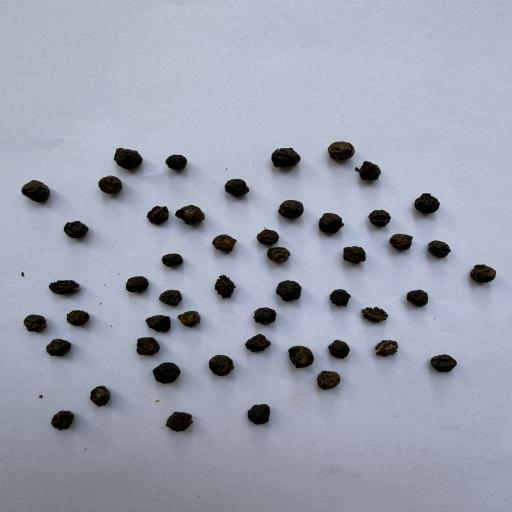Black_pepper: (397, 183, 450, 219), (144, 360, 199, 392), (161, 406, 207, 440), (16, 176, 61, 209), (56, 215, 101, 243), (421, 350, 465, 378), (170, 205, 217, 230), (268, 140, 306, 170), (316, 336, 354, 365), (203, 350, 238, 381), (309, 366, 349, 393), (274, 274, 311, 303), (114, 144, 152, 172), (218, 178, 262, 202), (470, 259, 504, 289), (317, 208, 348, 240), (283, 342, 318, 370), (240, 402, 277, 428), (87, 380, 120, 409), (119, 268, 153, 296), (353, 162, 392, 186), (423, 235, 455, 264), (336, 242, 373, 267), (43, 410, 85, 432), (162, 152, 196, 179), (94, 169, 124, 199), (239, 334, 278, 357), (363, 201, 395, 229), (272, 196, 310, 219), (248, 305, 286, 327), (328, 286, 358, 312), (325, 138, 357, 162), (386, 230, 418, 254), (253, 225, 289, 246), (404, 283, 432, 310), (60, 308, 96, 329), (132, 332, 160, 358), (44, 339, 80, 358), (155, 249, 189, 269), (211, 233, 239, 256), (142, 312, 174, 332), (176, 310, 209, 329), (160, 286, 188, 308), (263, 247, 296, 264), (20, 315, 51, 332)
papaya_seed: (40, 274, 92, 297), (374, 335, 407, 363), (142, 203, 173, 231), (214, 273, 240, 303), (360, 303, 392, 327)
